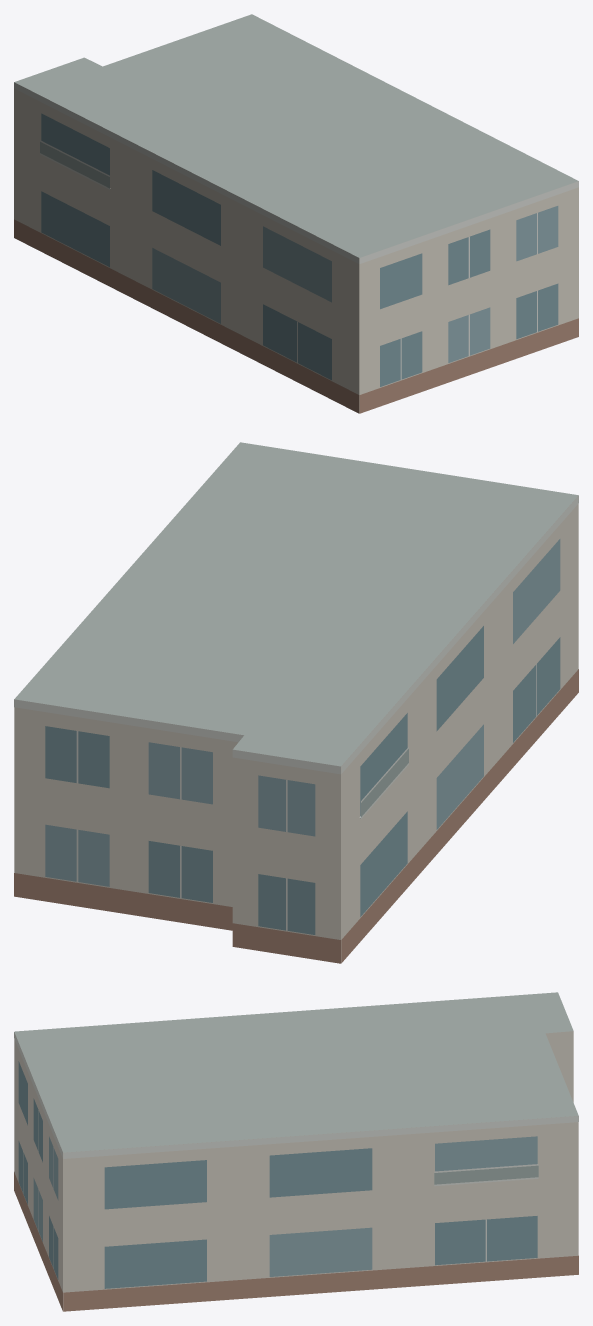
File: survey-upis-32713510.glb
The picture shows the model from 3 angles, top to bottom: view 1: azimuth 30°, elevation 25°; view 2: azimuth 150°, elevation 25°; view 3: azimuth 270°, elevation 25°; orthographic projection. The views are drawn at different scales.
Parts seen in each view (by area): view 1: survey-upis-32713510.tmp; view 2: survey-upis-32713510.tmp; view 3: survey-upis-32713510.tmp.
Part boxes in pixels (x1=…): survey-upis-32713510.tmp: x1=14, y1=14, x2=578, y2=413; survey-upis-32713510.tmp: x1=14, y1=442, x2=578, y2=963; survey-upis-32713510.tmp: x1=14, y1=992, x2=578, y2=1311.
Bounding box in the file's own units: 13.22 × 6.1 × 19.65.
